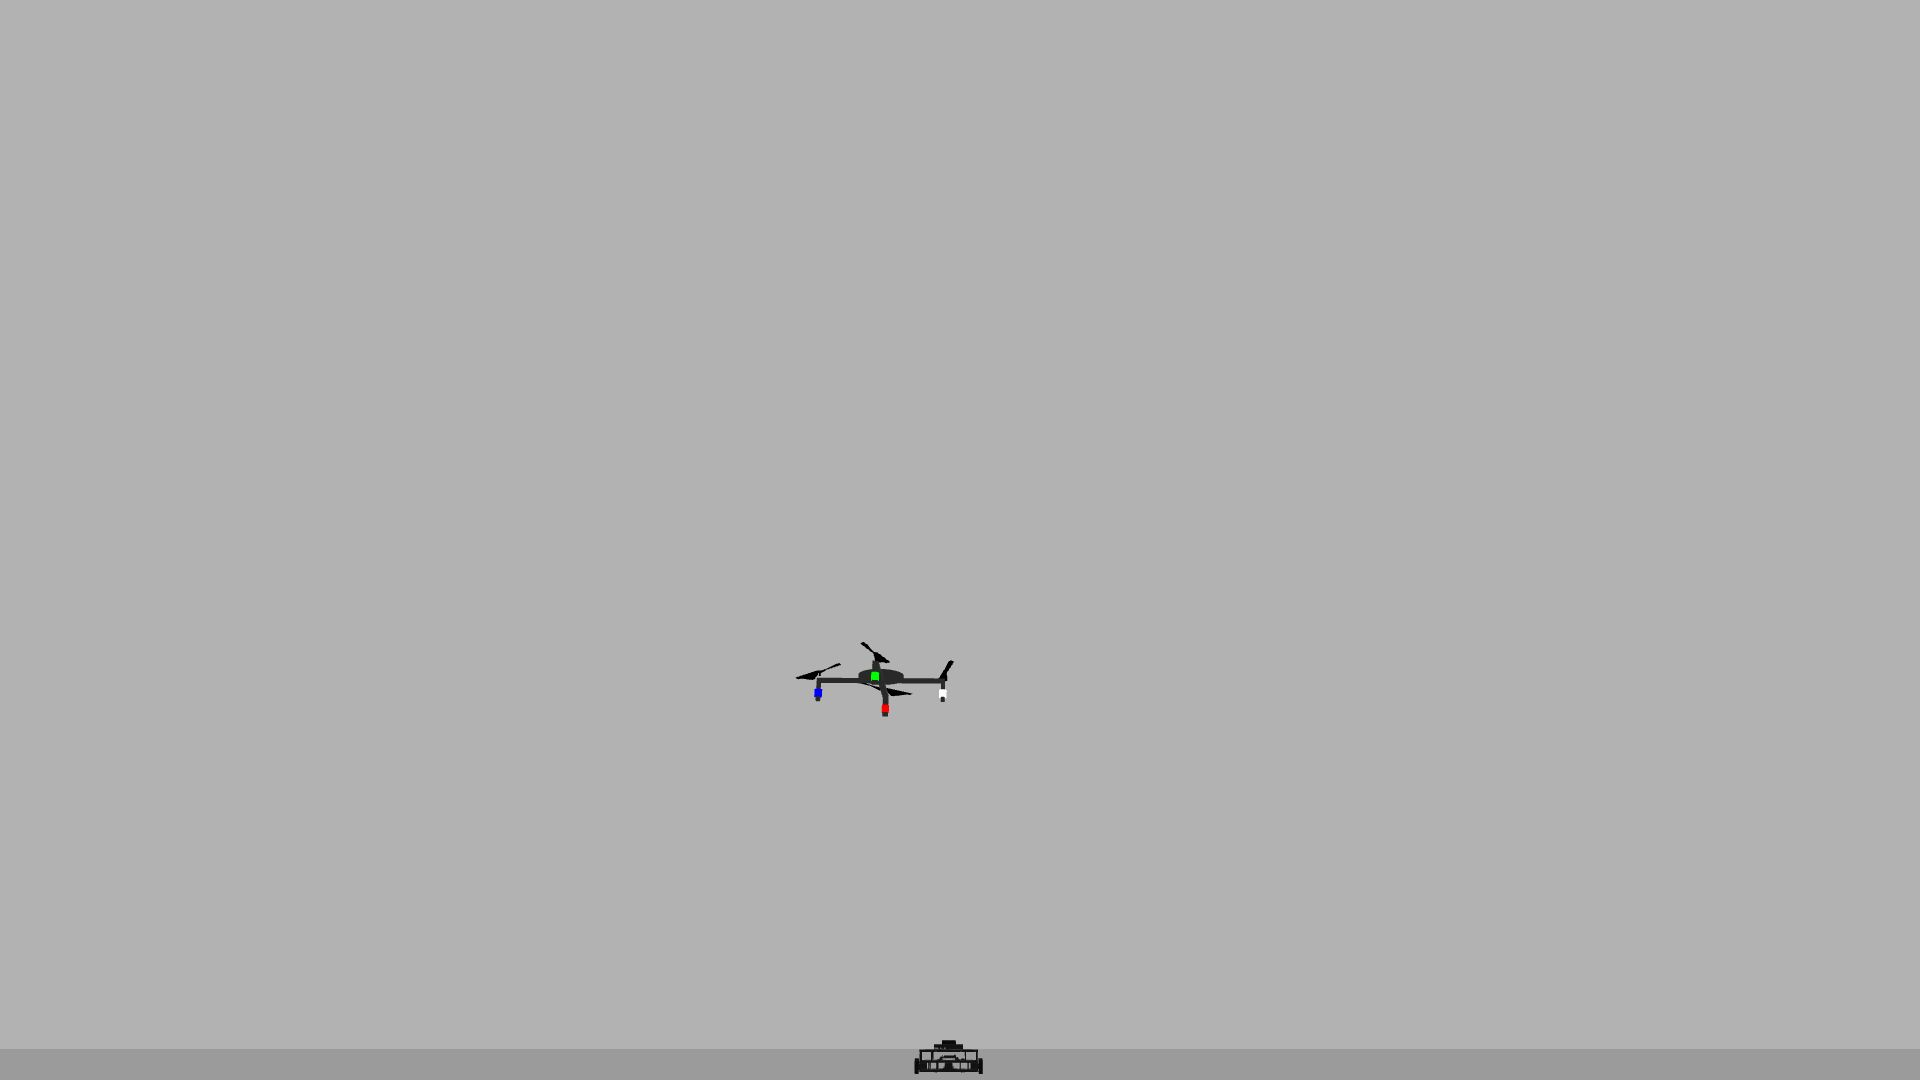drone: (789, 621, 971, 738)
